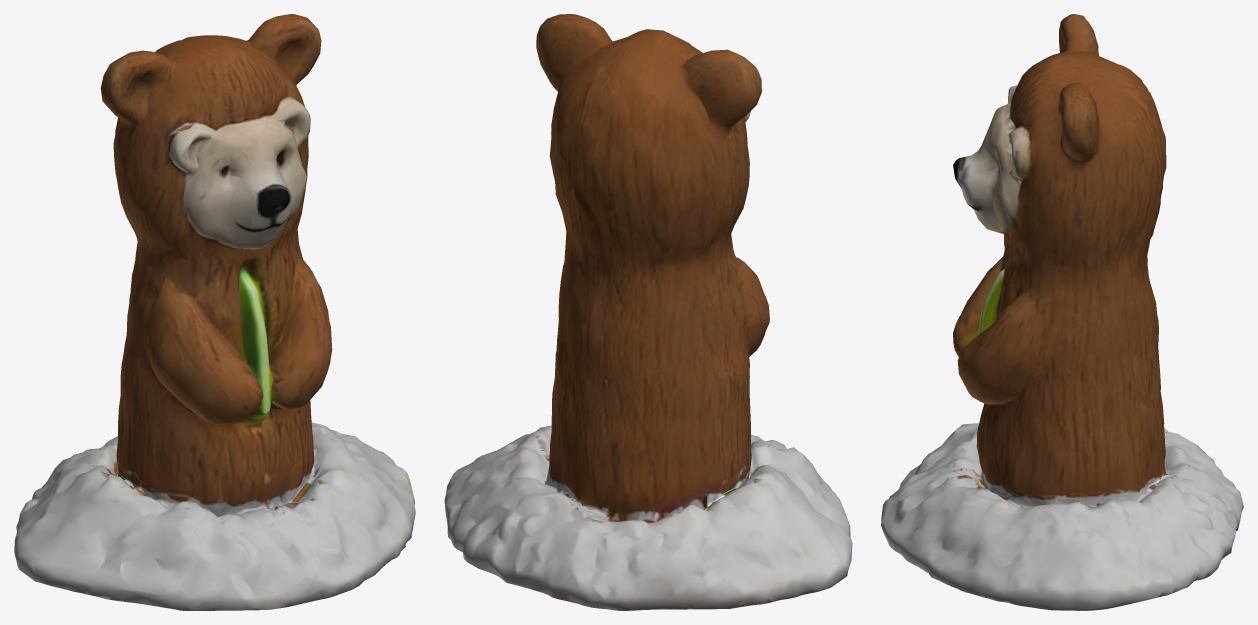
File: prop_aurora_totem.glb
The picture shows the model from 3 angles, left to right: view 1: azimuth 30°, elevation 25°; view 2: azimuth 150°, elevation 25°; view 3: azimuth 270°, elevation 25°; orthographic projection. The views are drawn at different scales.
Parts seen in each view (by area): view 1: geometry_0; view 2: geometry_0; view 3: geometry_0.
Boxes of the visible parts, bbox=[...] form: geometry_0: bbox=[14, 14, 415, 610]; geometry_0: bbox=[444, 14, 852, 610]; geometry_0: bbox=[881, 14, 1243, 610].
Bounding box in the file's own units: 1.55 × 1.96 × 1.36.
Materials: 1 (1 with a texture image).
